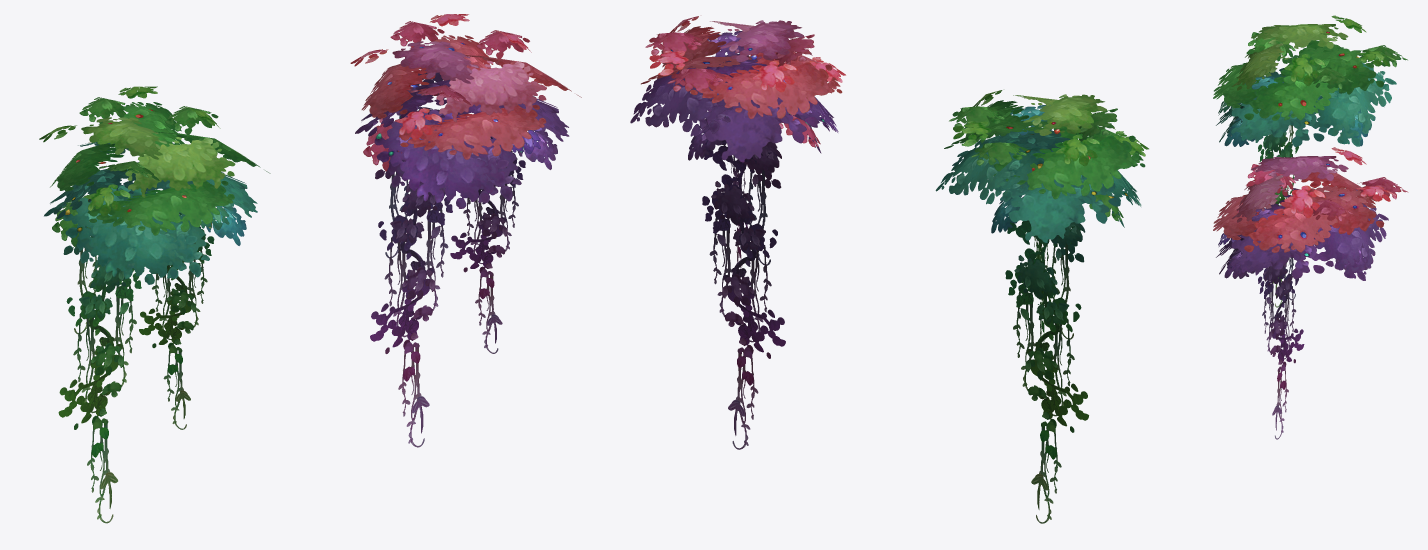
The model's file is ruyicao.FBX.
3 views of the same model, side by side, from view 1: azimuth 30°, elevation 25°; view 2: azimuth 150°, elevation 25°; view 3: azimuth 270°, elevation 25° (orthographic). The views are drawn at different scales.
Parts seen in each view (by area): view 1: ruyicao1, ruyicao; view 2: ruyicao1, ruyicao; view 3: ruyicao1, ruyicao.
Boxes of the visible parts, bbox=[...] form: ruyicao1: bbox=[350, 14, 581, 447]; ruyicao: bbox=[39, 86, 270, 523]; ruyicao1: bbox=[630, 16, 845, 449]; ruyicao: bbox=[935, 90, 1148, 523]; ruyicao1: bbox=[1213, 147, 1408, 439]; ruyicao: bbox=[1213, 15, 1407, 307].
Bounding box in the file's own units: 438 × 170 × 324.
